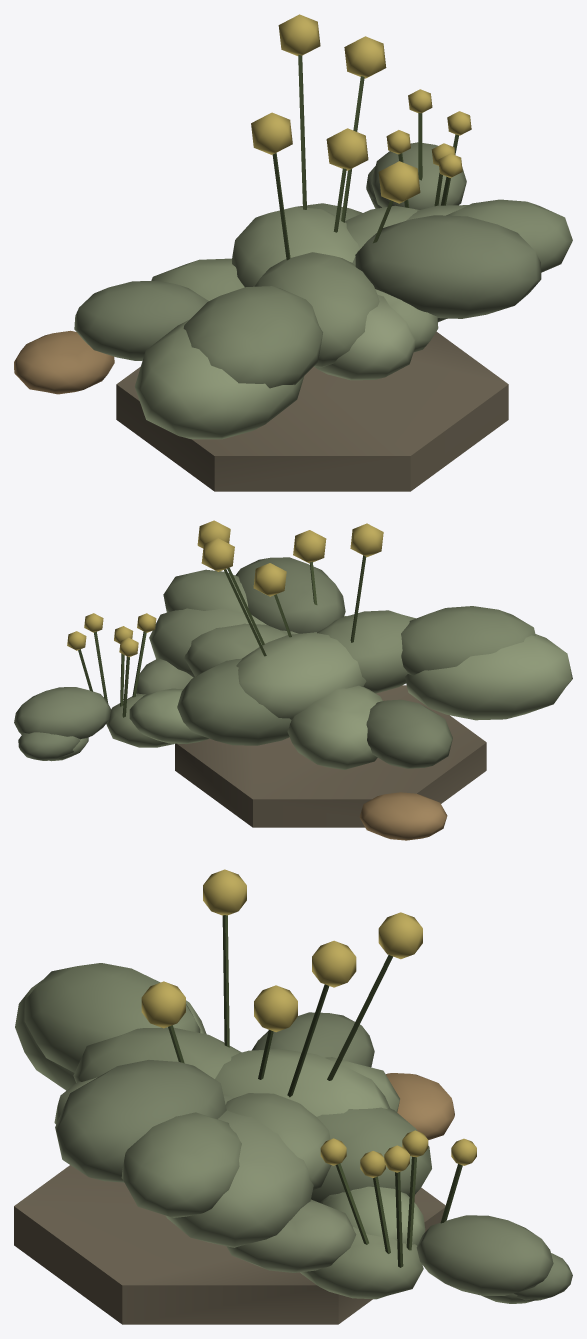
The model's file is desert_scrub_a.glb.
The picture shows the model from 3 angles, top to bottom: view 1: azimuth 30°, elevation 25°; view 2: azimuth 150°, elevation 25°; view 3: azimuth 270°, elevation 25°; orthographic projection. The views are drawn at different scales.
Visible parts, largest first — view 1: Surface; view 2: Surface; view 3: Surface.
Boxes of the visible parts, x1,y1,x2,y2 form: Surface: (14,14,572,491); Surface: (14,520,572,840); Surface: (14,869,572,1324).
Size of the model in its own units: 4.41 by 2.81 by 3.88.
